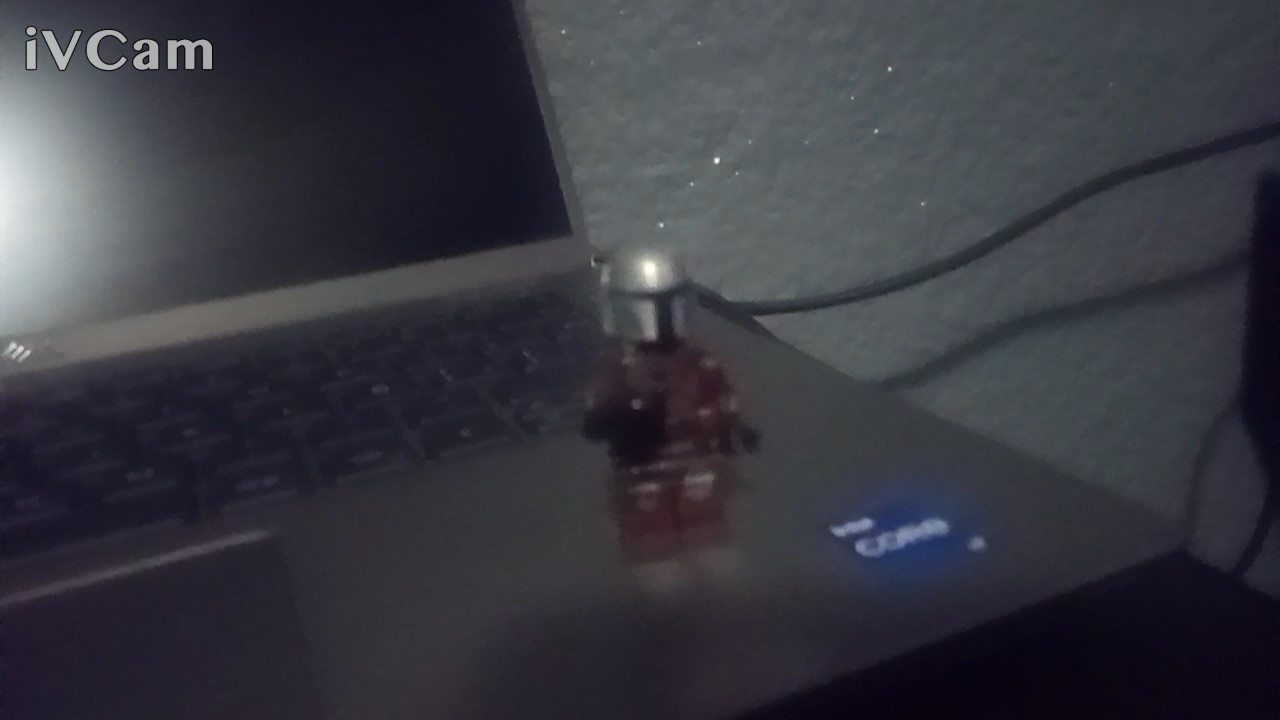mandalorian: (563, 233, 786, 588)
